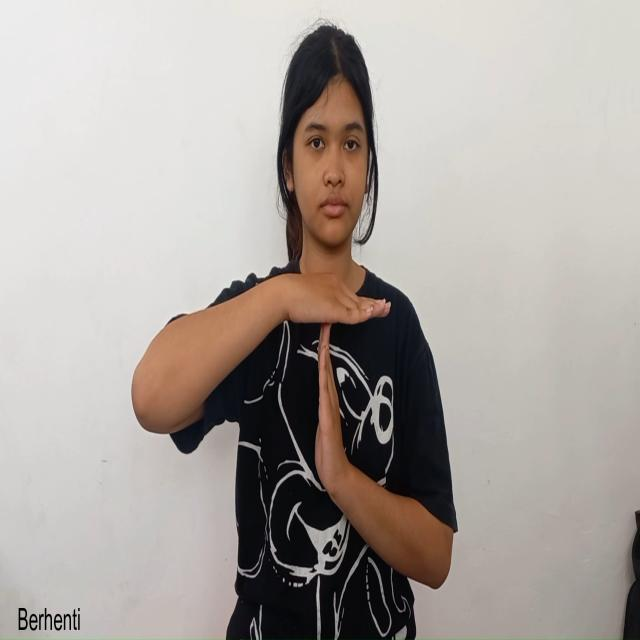Berhenti -BISINDO-: (245, 273, 404, 517)
